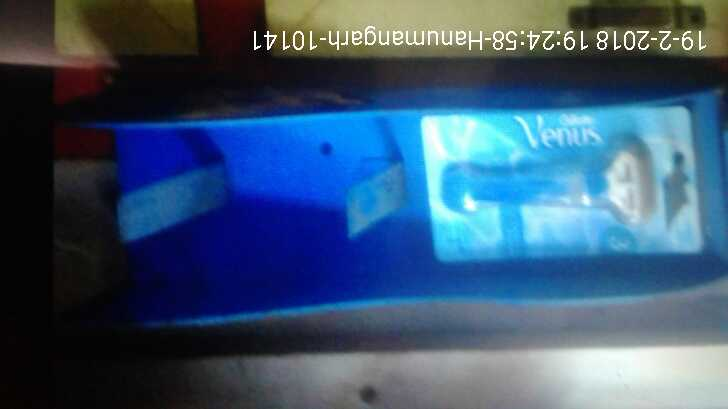venus: (422, 113, 681, 255)
